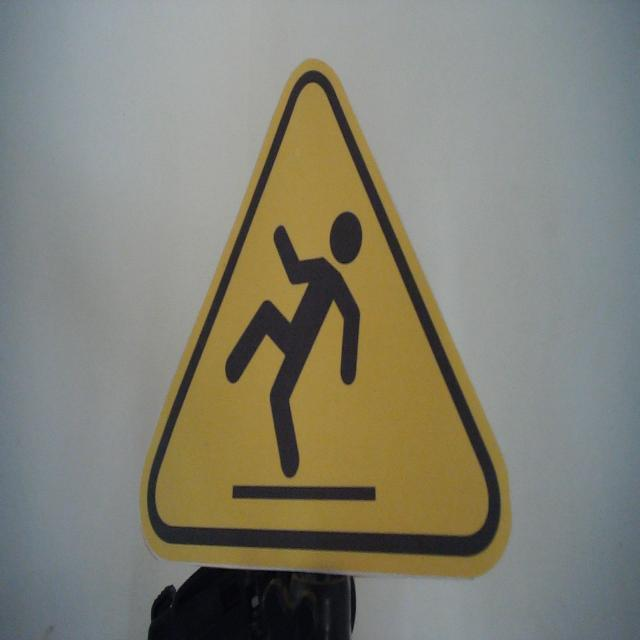slippery_sign: (137, 55, 515, 586)
